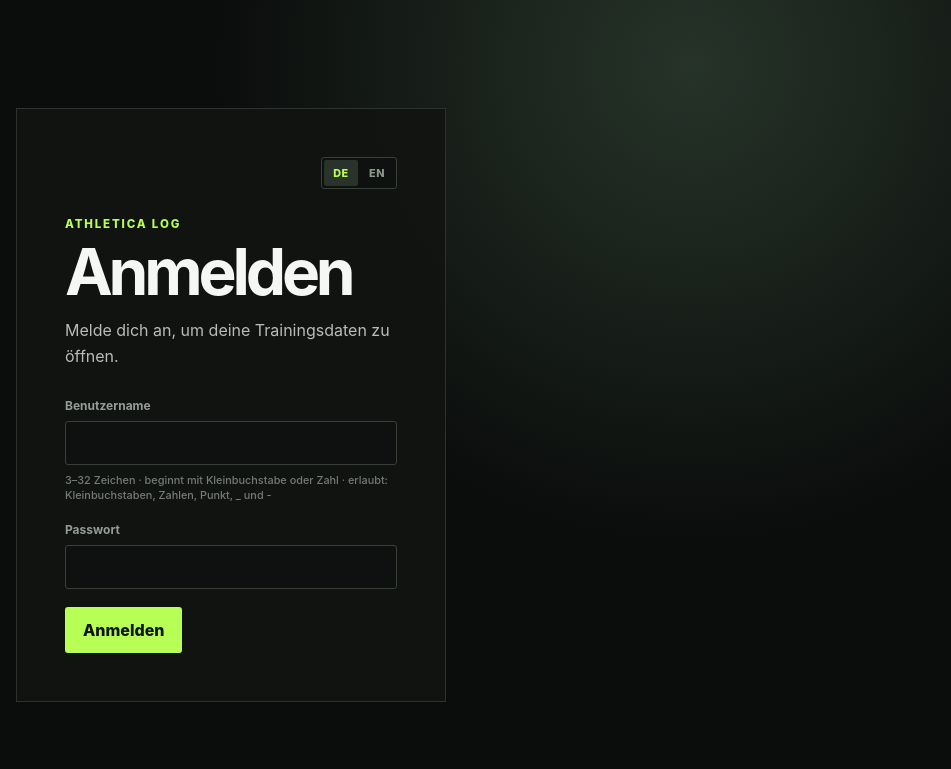
Home › explains invalid usernames before attempting login
The image size is (951, 769).
Expected: the heading "Anmelden" is shown, [65, 243, 397, 300]
Click the button with aria-label "Englisch" at {"x": 377, "y": 173}, box [360, 160, 394, 186]
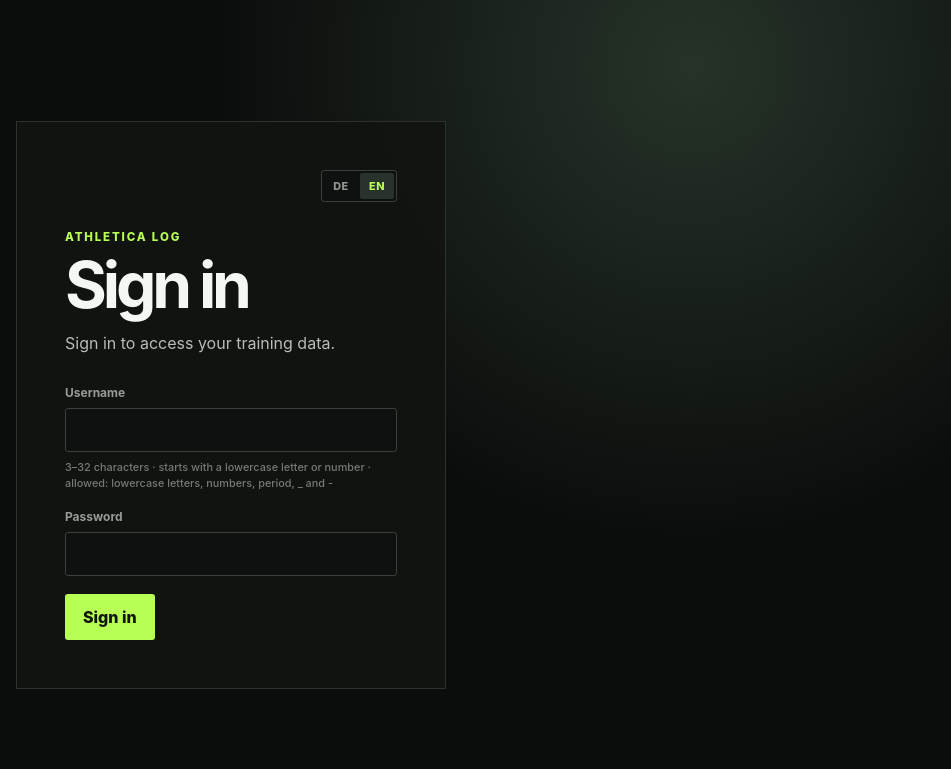
Expected: the heading "Sign in" is shown, [65, 246, 248, 323]
Type "new%tester" into the field labelled "Username" at {"x": 231, "y": 430}, box [65, 408, 397, 452]
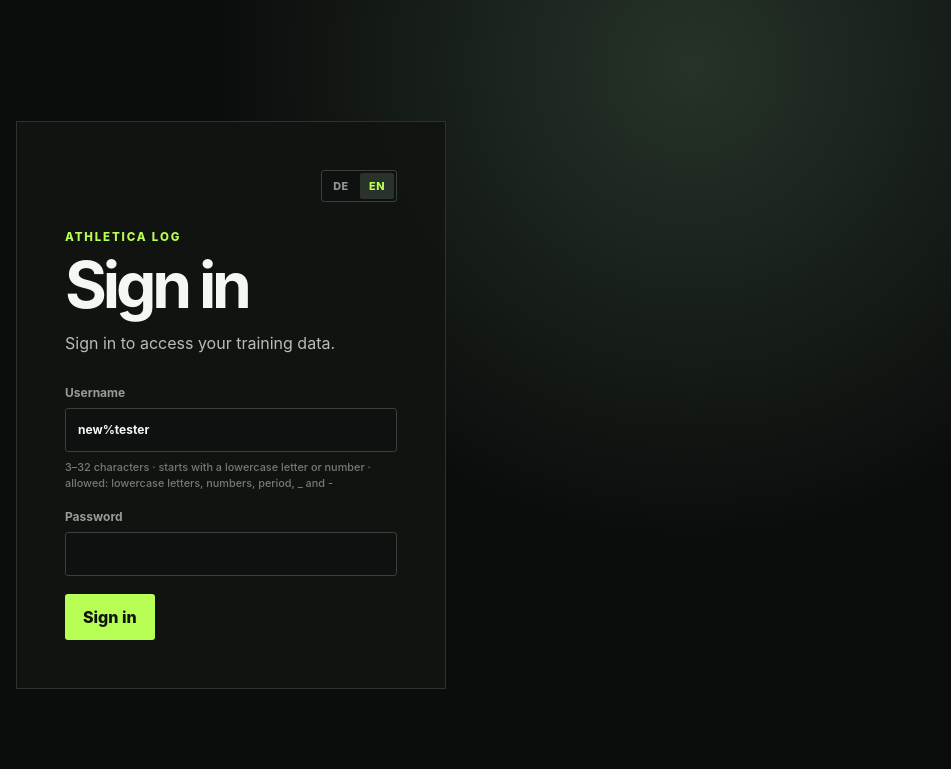
Type "a-strong-password" into the password field labelled "Password" at {"x": 231, "y": 554}, box [65, 532, 397, 576]
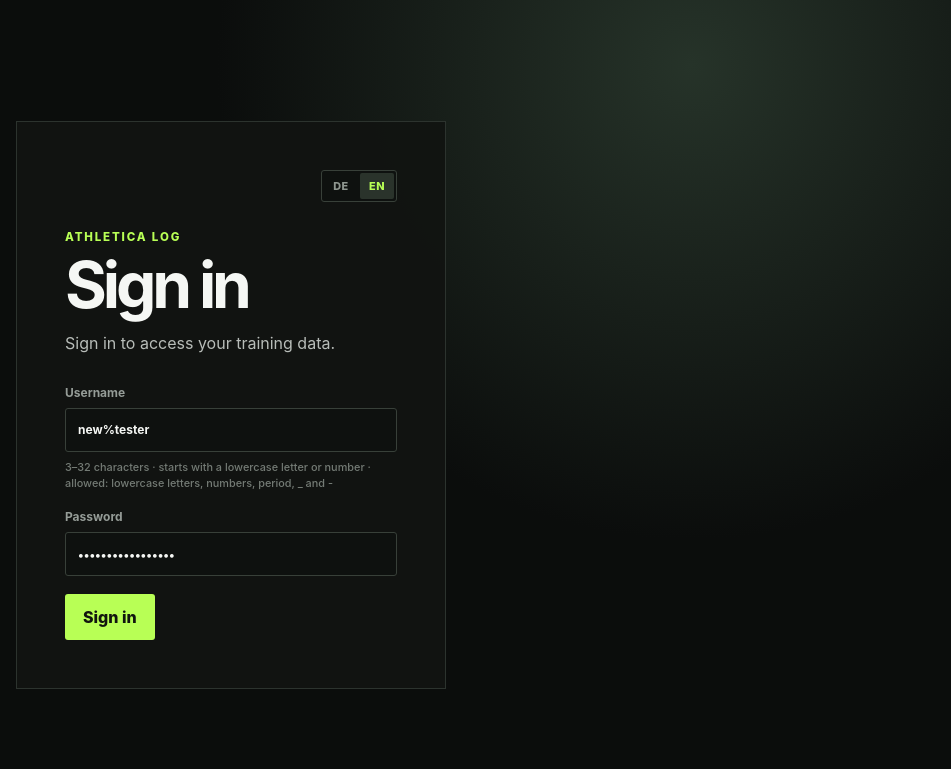
Click the button "Sign in" at {"x": 110, "y": 617}, box [65, 594, 155, 640]
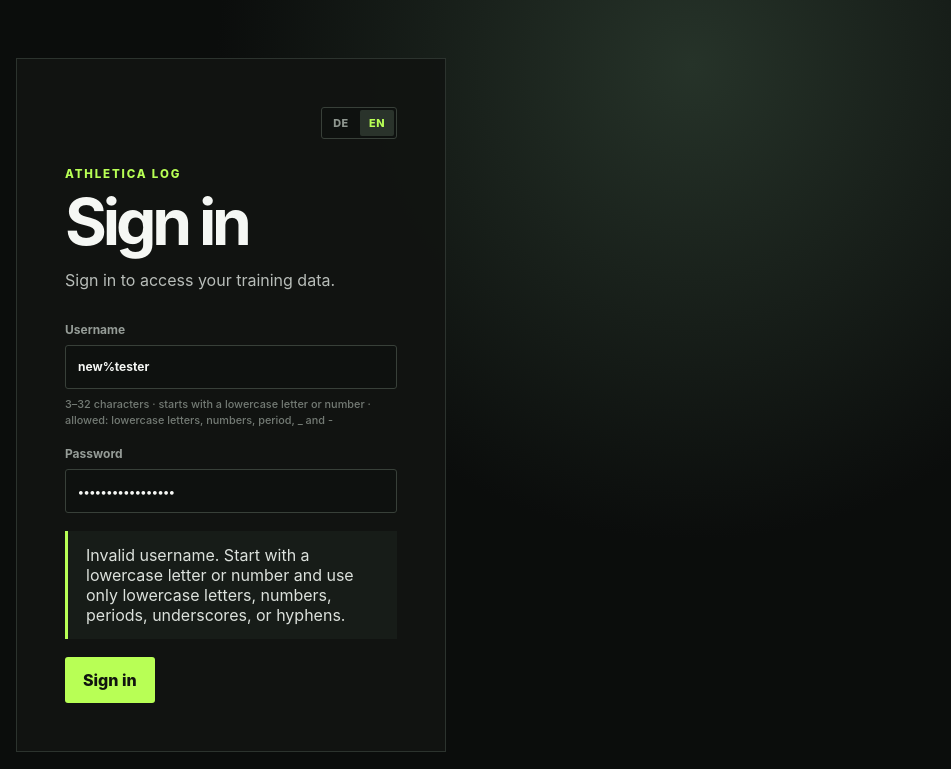
Expected: the message shows "use only lowercase letters, numbers, periods, underscores, or hyphens", [86, 545, 354, 625]
